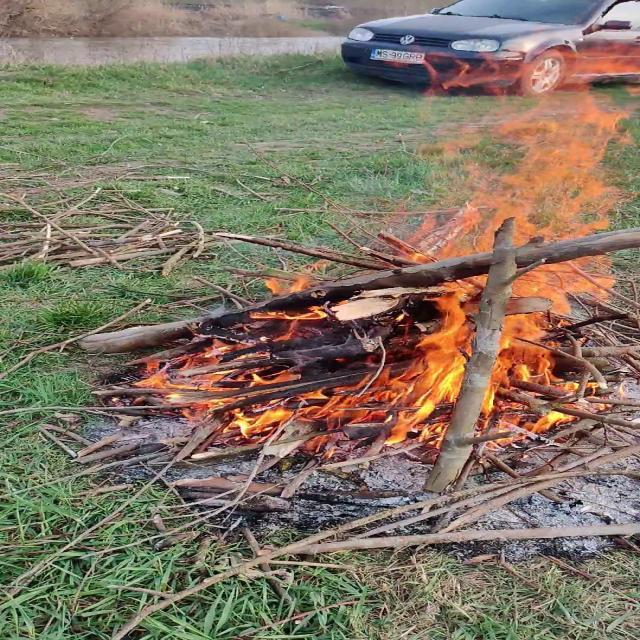Fire: (401, 26, 640, 436)
